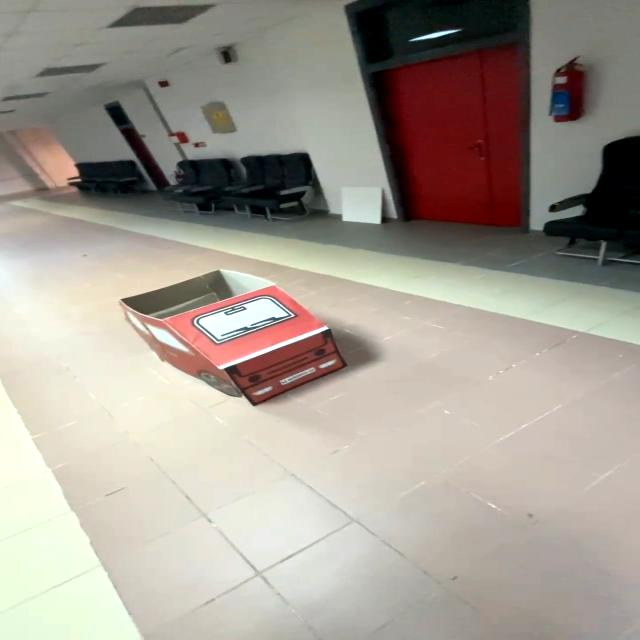red_car: (98, 253, 375, 420)
